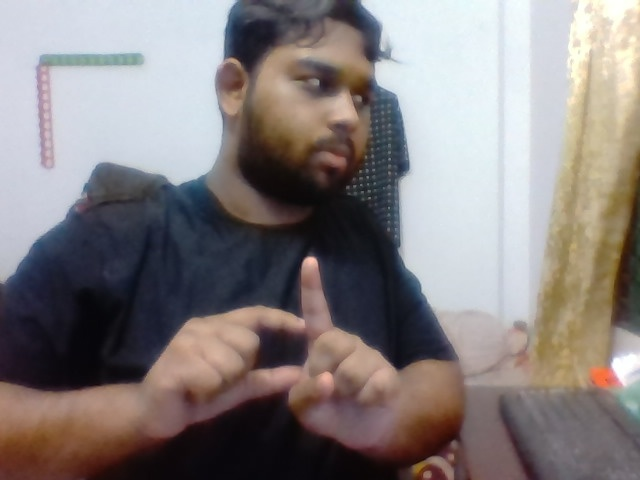D: (173, 241, 419, 444)
